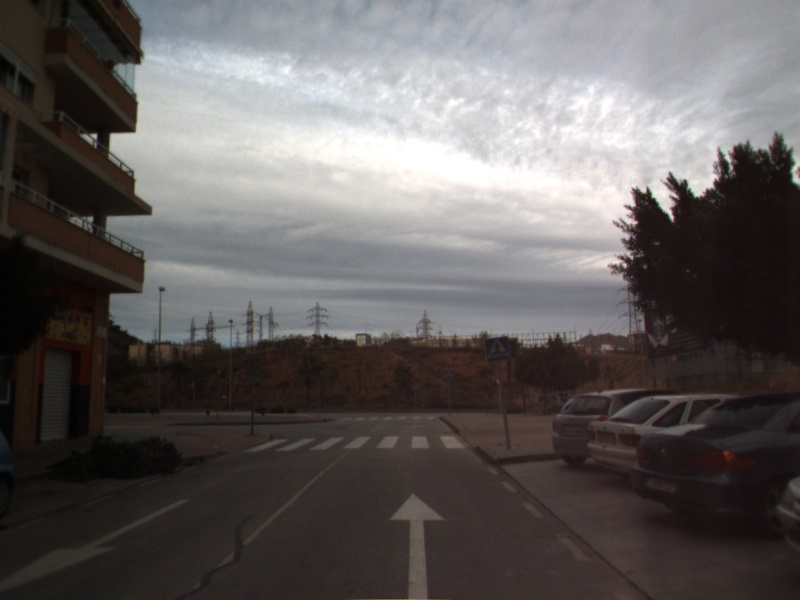STRAIGHT: (387, 491, 448, 600)
